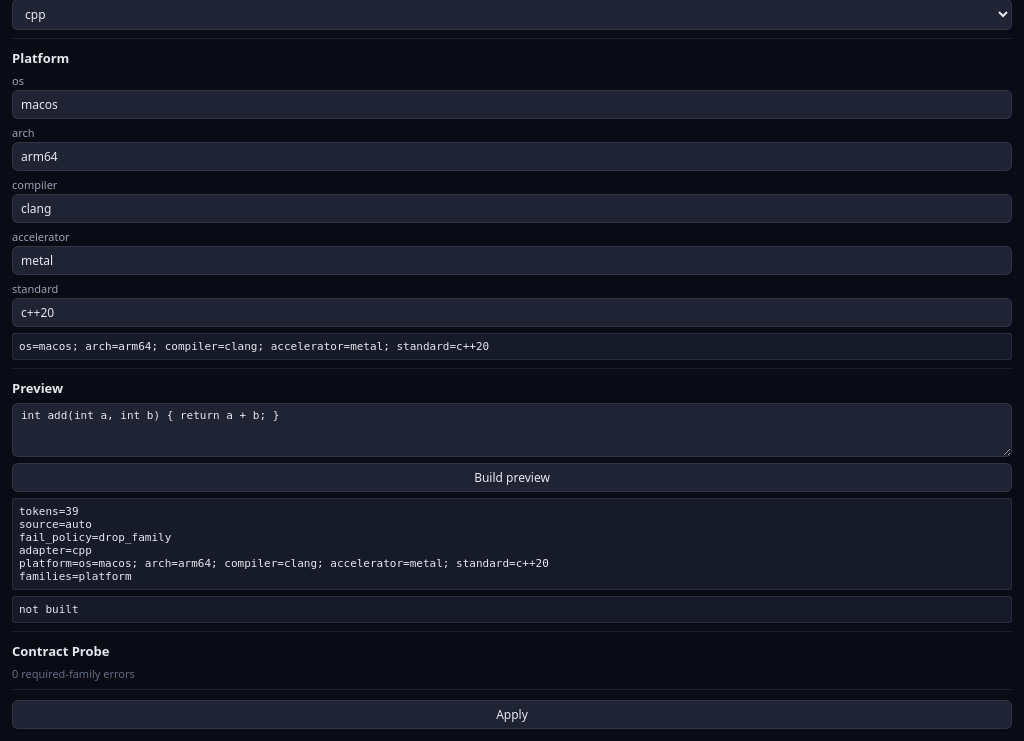
Test case: V7-H11 SideChannelsTab Apply RPC › falls back to local-only apply when no rpc client
This screenshot has width=1024, height=741.
(page scrolled)
Click the button with test id "side-channels-apply": (512, 714) [12,700,1012,729]
(page scrolled)
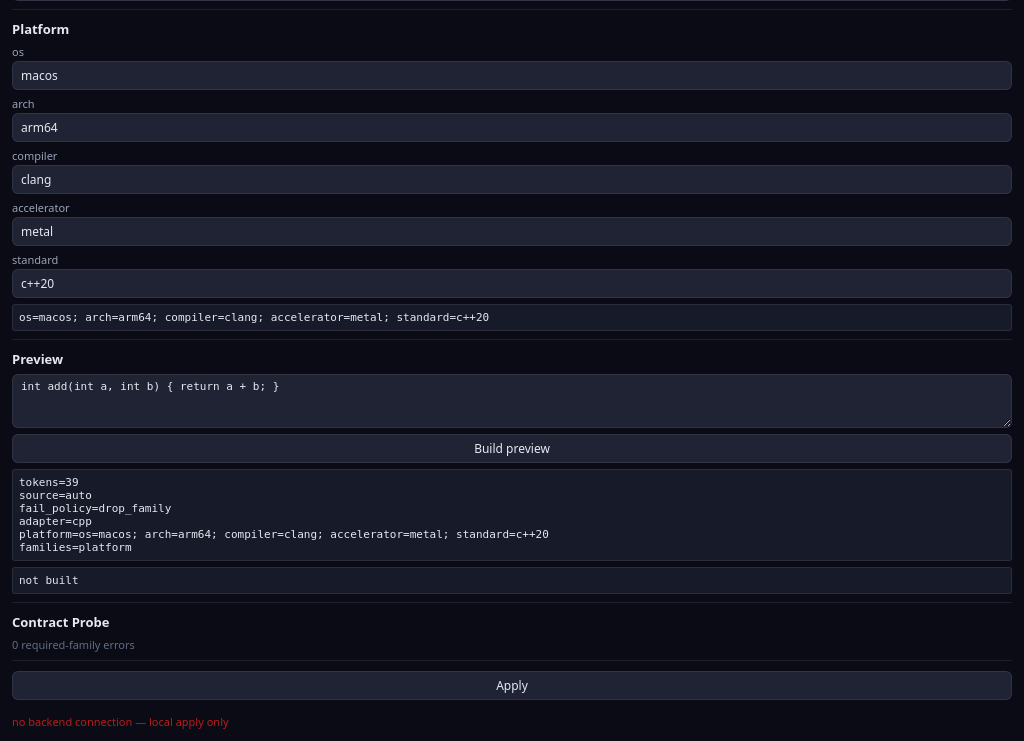
Expected: the text with test id "side-channels-apply-error" shows "no backend connection", [12,714,229,729]
